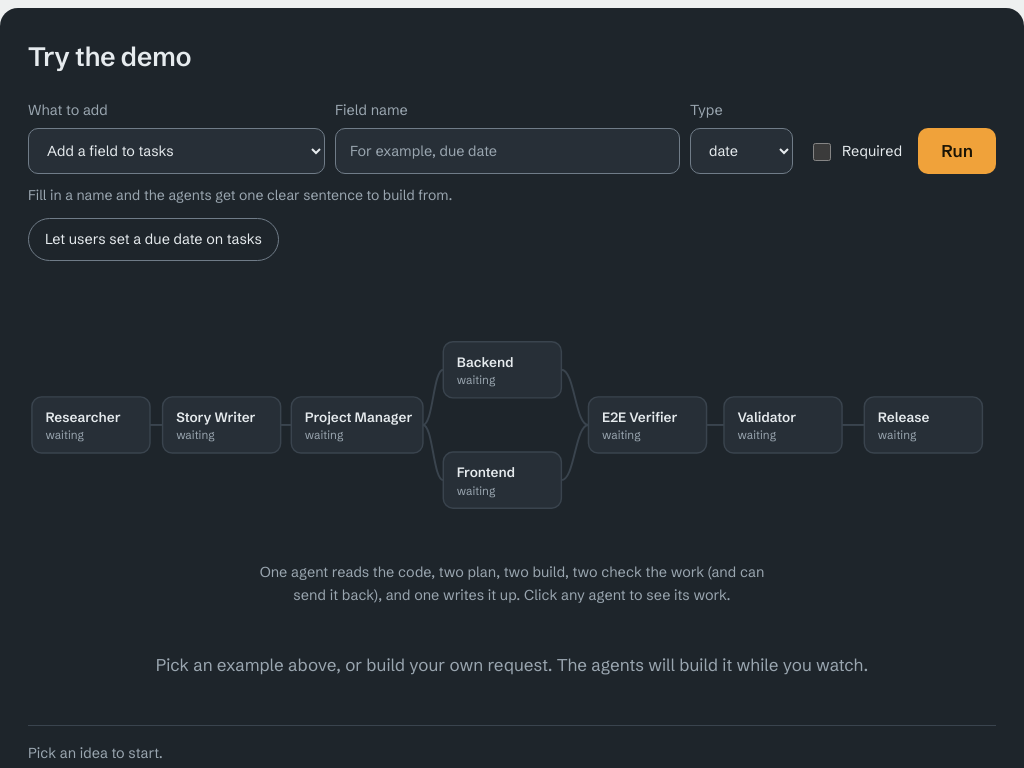
Stage › shows the server's error and lets the visitor try again (the Run button must not stay stuck)
Type "nickname" into the field labelled "Field name" at (508, 151), box [335,128,680,174]
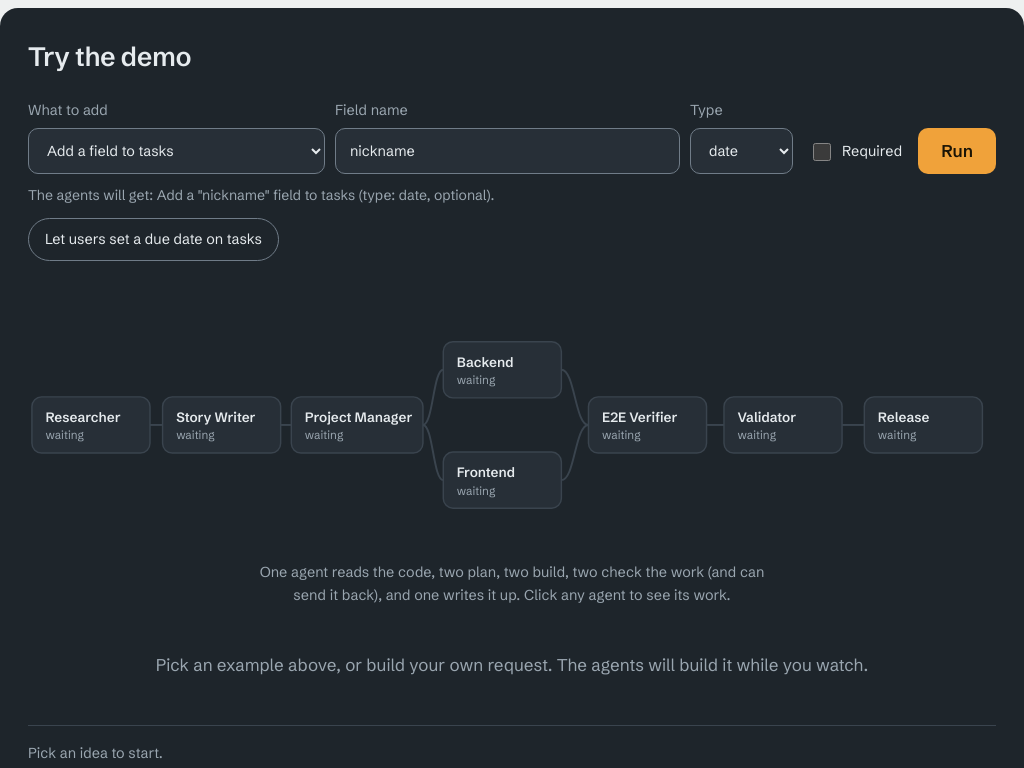
Click the button "Run" at (957, 151), box [918,128,996,174]
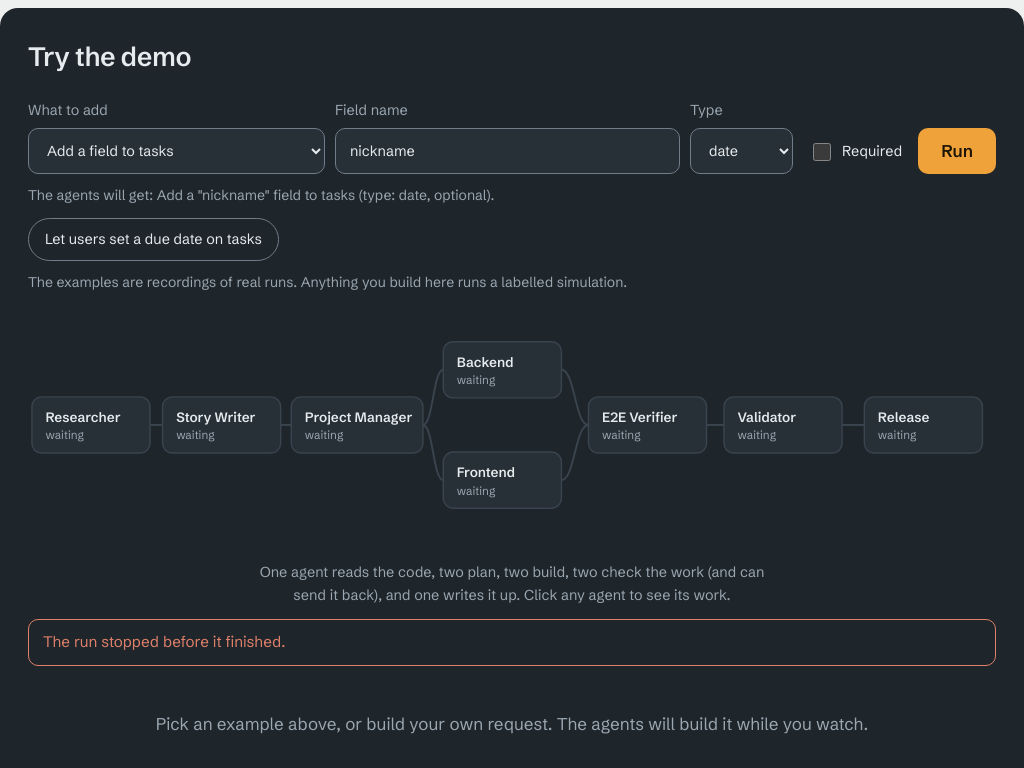
Check: the message reads "The run stopped before it finished.", box [43,632,285,652]
